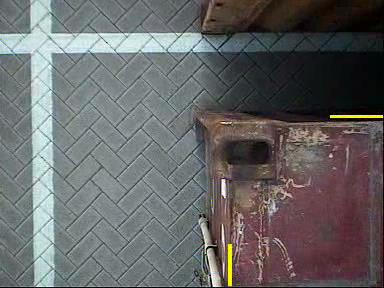groundmarker_2: (142, 195, 197, 232), (144, 46, 199, 82)
